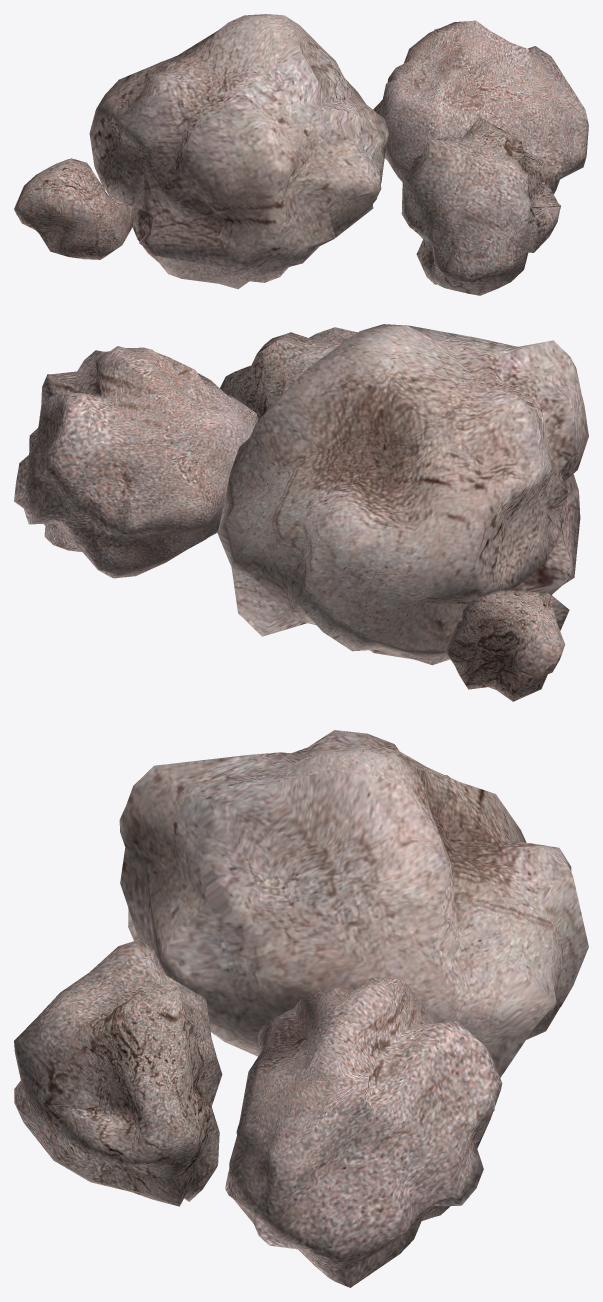
Rendered from rock_01.fbx.
3 renders of one model, top to bottom at view 1: azimuth 30°, elevation 25°; view 2: azimuth 150°, elevation 25°; view 3: azimuth 270°, elevation 25°, orthographic. The views are drawn at different scales.
Visible parts, largest first — view 1: rock01, rock02, rock03, rock04; view 2: rock01, rock02, rock04, rock03; view 3: rock01, rock02, rock03.
Boxes of the visible parts, x1,y1,x2,y2 form: rock01: [89, 14, 388, 289]; rock02: [373, 20, 588, 193]; rock03: [401, 117, 560, 295]; rock04: [14, 158, 132, 259]; rock01: [217, 324, 588, 665]; rock02: [14, 346, 257, 578]; rock04: [444, 590, 569, 701]; rock03: [220, 327, 357, 420]; rock01: [119, 730, 588, 1077]; rock02: [225, 977, 502, 1287]; rock03: [14, 939, 222, 1206].
Bounding box in the file's own units: 15.03 × 7.33 × 10.66.
